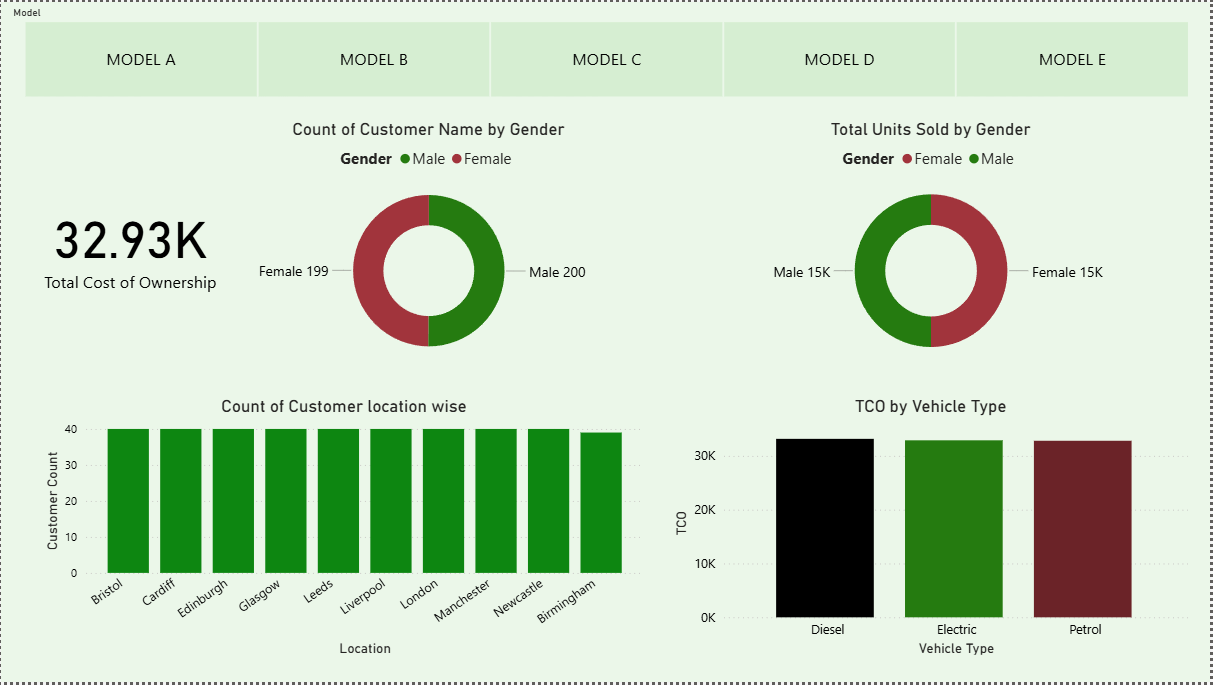

The page's visual inventory and layout, read from the dashboard file:
{"tool":"powerbi","page":{"name":"TCO &  Customer_segmentation","canvas":[1280,720],"ordinal":1},"visuals":[{"type":"clusteredColumnChart","fields":{"Y":["Products.TCO"],"Category":["Products.Vehicle Type"]},"box":[706.7,416.7,555,278.3],"z":0},{"type":"slicer","fields":{"Values":["ModelTable.Model Name"]},"box":[0,0,1280,106.7],"z":1000},{"type":"card","fields":{"Values":["Products.TCO"]},"box":[18.3,151.7,235,208.3],"z":2000},{"type":"donutChart","fields":{"Y":["CountNonNull(Customer Table.Customer Name)"],"Category":["Customer Table.Gender"]},"box":[218.3,123.3,466.7,268.3],"z":3000},{"type":"columnChart","title":"Count of Customer location wise","fields":{"Y":["CountNonNull(Customer Table.Customer Name)"],"Category":["Customer Table.Location"]},"box":[41.7,416.7,643.3,278.3],"z":4000},{"type":"donutChart","fields":{"Y":["Order Details.Total Units Sold"],"Category":["Customer Table.Gender"]},"box":[706.7,123.3,555,268.3],"z":5000}]}

Visuals, with their boxes in screenshot pixels (x1, y1, x2, y2), scaled from the page's 1280x720 canvas onto the 1213x685 screenshot:
clusteredColumnChart - Products.TCO x Products.Vehicle Type: <box>670,396,1196,661</box>
slicer - ModelTable.Model Name: <box>0,0,1212,102</box>
card - Products.TCO: <box>17,144,240,342</box>
donutChart - CountNonNull(Customer Table.Customer Name) x Customer Table.Gender: <box>207,117,649,373</box>
"Count of Customer location wise" columnChart: <box>40,396,649,661</box>
donutChart - Order Details.Total Units Sold x Customer Table.Gender: <box>670,117,1196,373</box>
